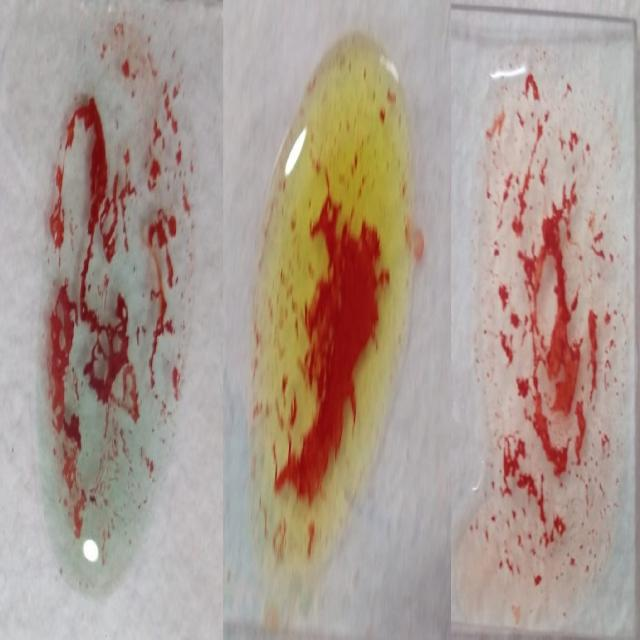A: (35, 28, 195, 601)
B: (262, 40, 406, 573)
D: (478, 52, 619, 600)
